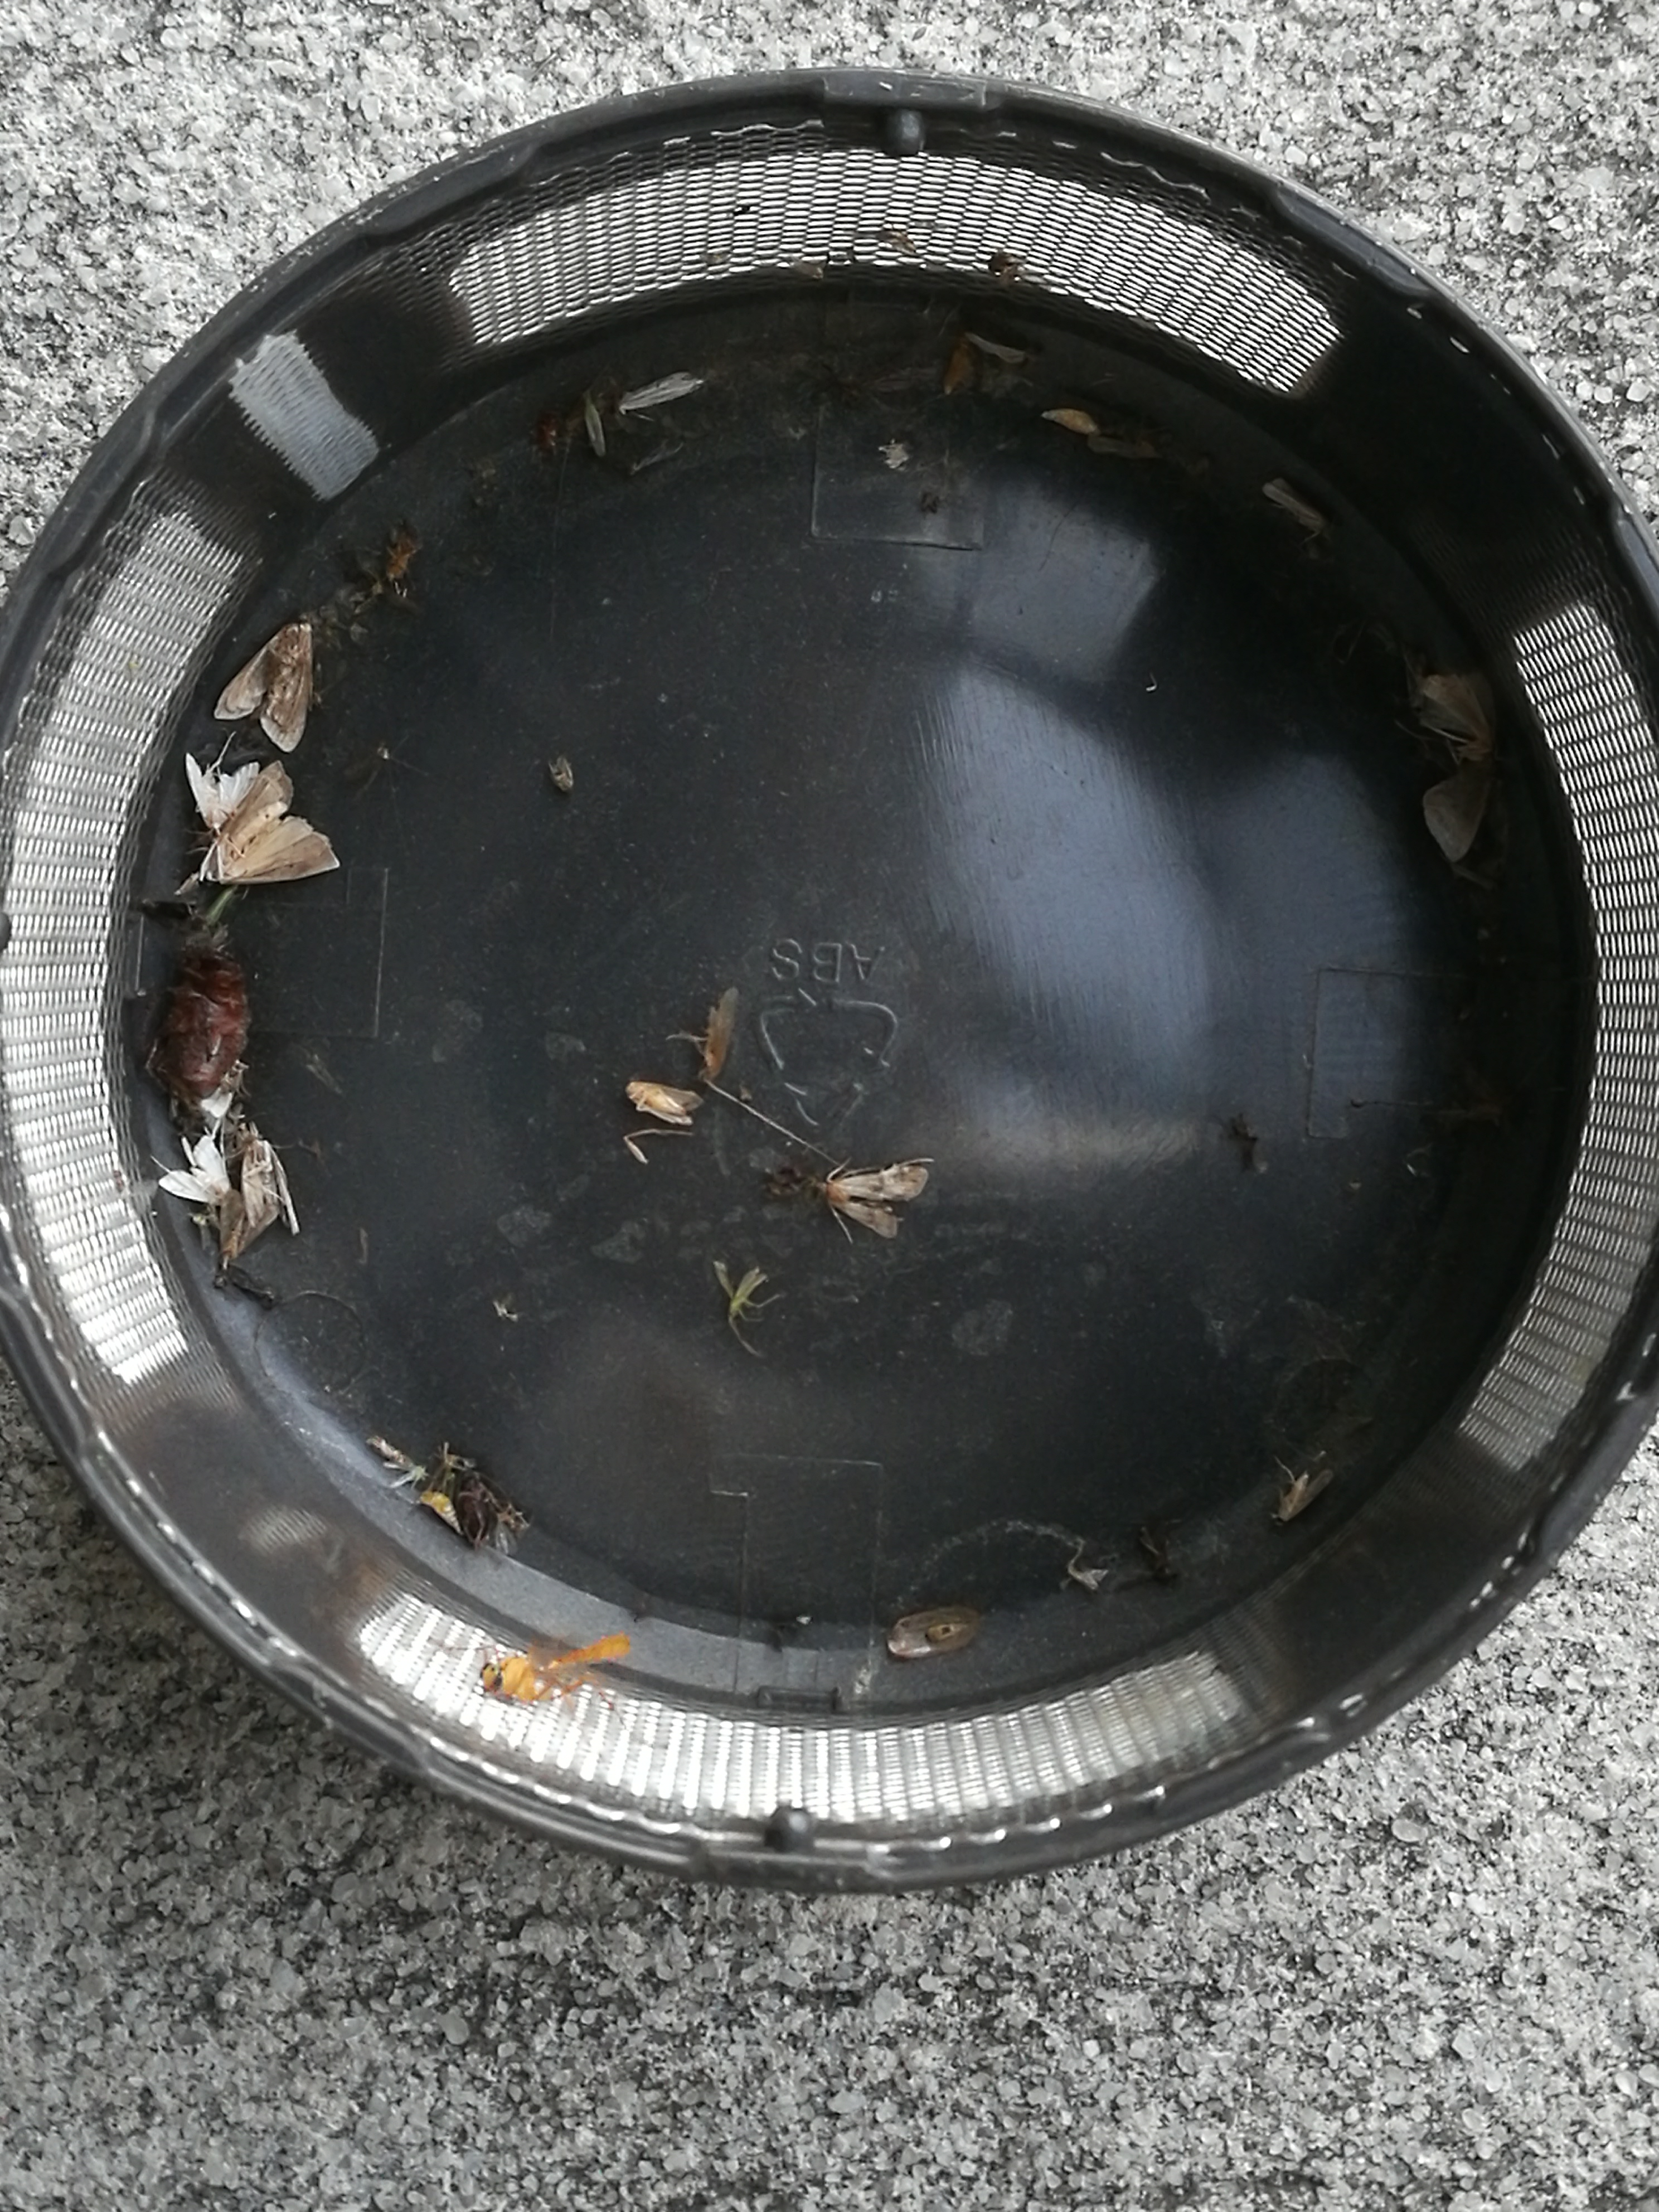beetle: (157, 944, 253, 1097)
mosquito: (1263, 475, 1328, 531), (704, 988, 739, 1082), (1272, 1470, 1330, 1526), (620, 373, 704, 411), (202, 1061, 247, 1116), (1087, 435, 1157, 456)
moth: (200, 759, 340, 881), (1412, 674, 1499, 862), (213, 622, 314, 754), (812, 1167, 927, 1238), (185, 754, 260, 834), (240, 1141, 300, 1235), (218, 1190, 277, 1268), (160, 1137, 228, 1204), (627, 1083, 702, 1125)
